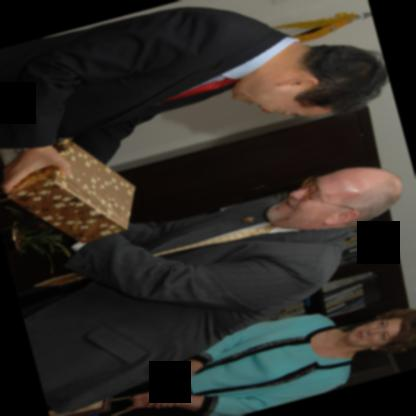handbag: (47, 396, 131, 416)
